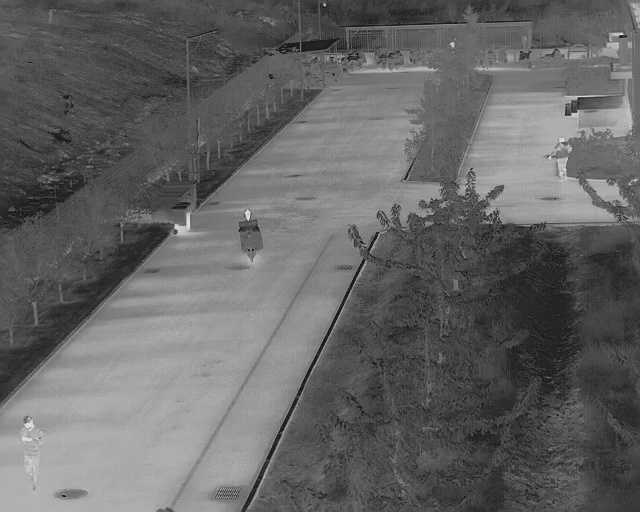NonMotorVehicle: (237, 206, 263, 264)
person: (19, 415, 42, 490), (549, 136, 571, 182)
